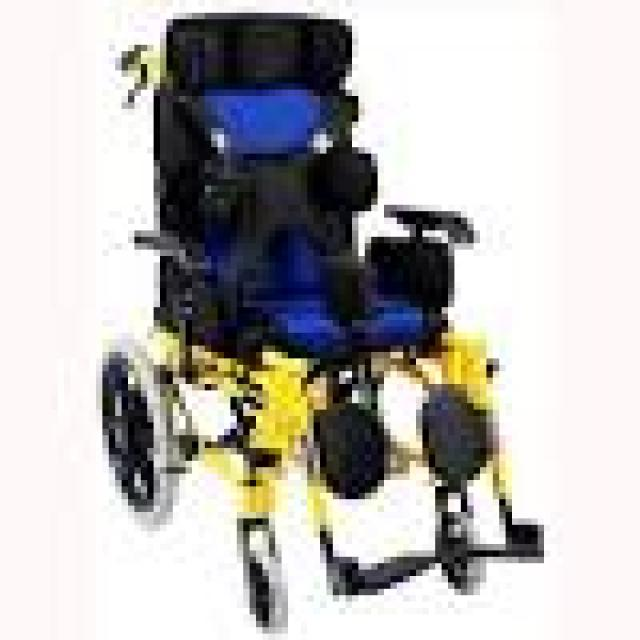wheelchairs: (90, 250, 563, 620)
